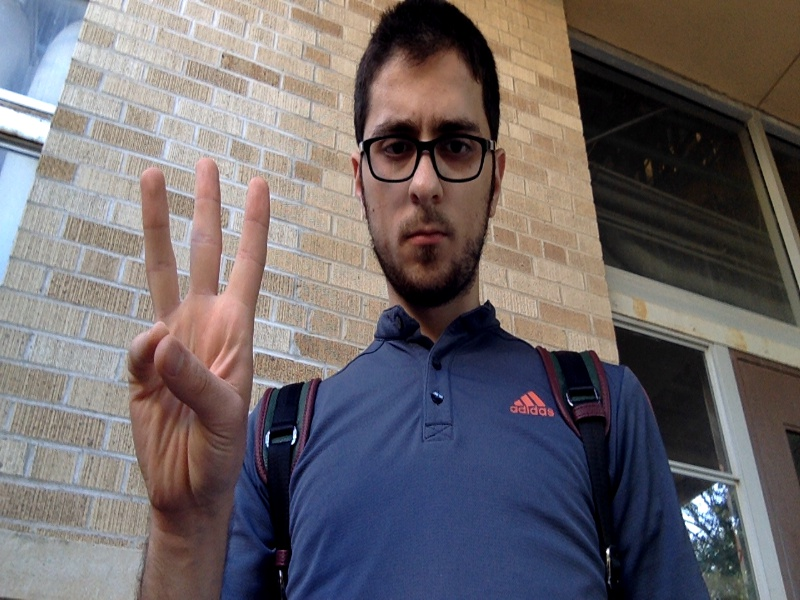3-hand: (127, 162, 269, 516)
